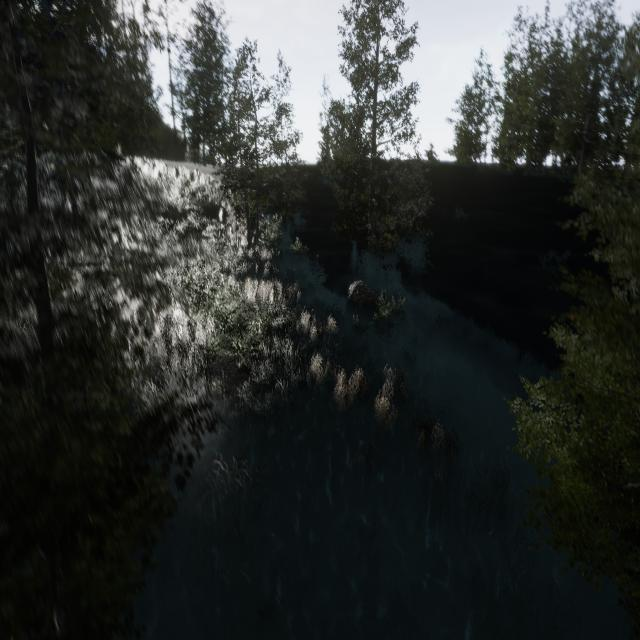Human: (307, 300, 329, 366)
